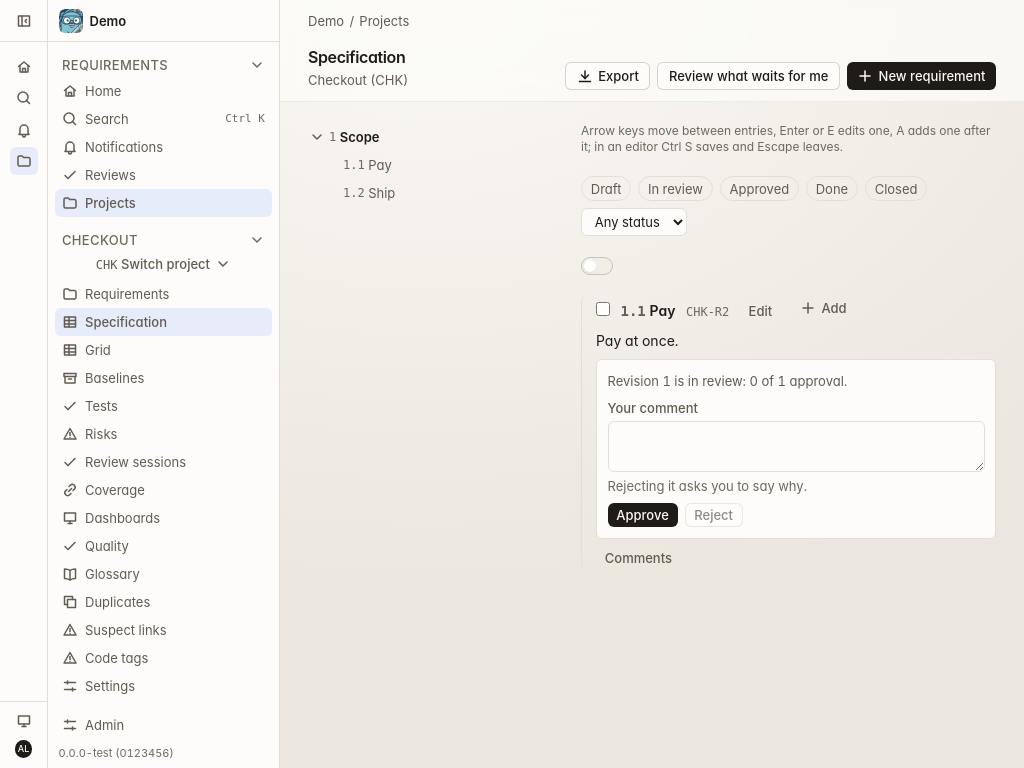
Test case: reviews in the document › says a review a newer revision superseded takes no decision
The width and height of the screenshot is (1024, 768).
Check: the heading "1.1 Pay" is shown, box [620,300,676,322]
In the text box labelled "Your comment": (796, 447) [608,421,984,472], type "Not like this."
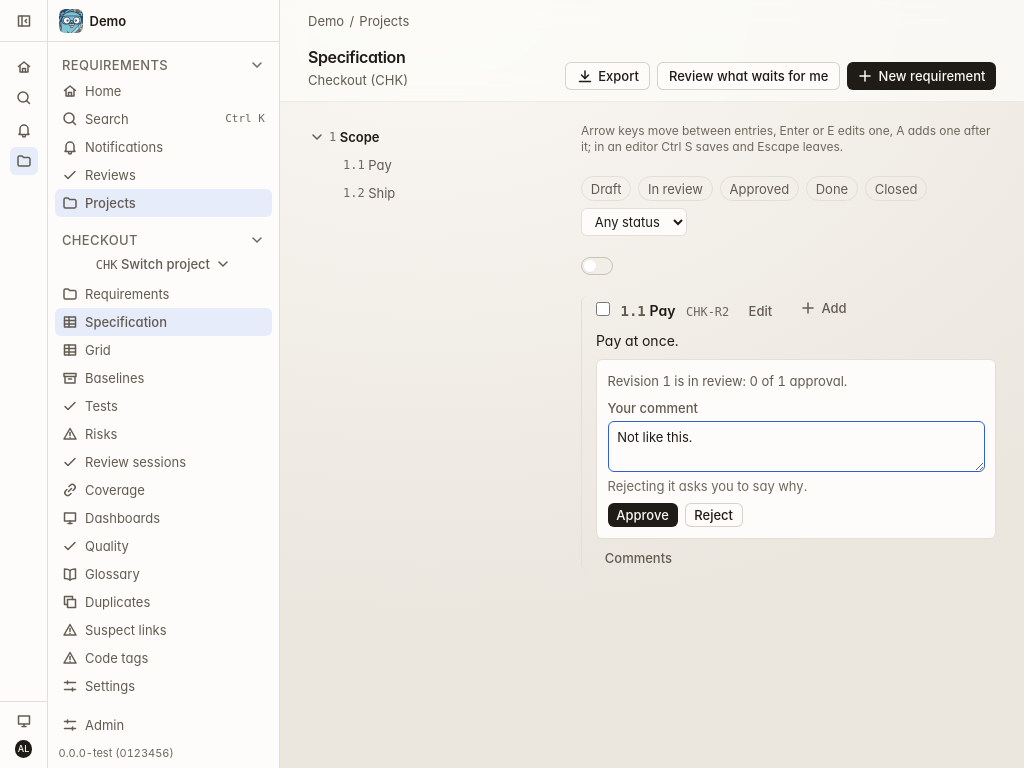
Click the button "Reject": (714, 515) [684,503,743,527]
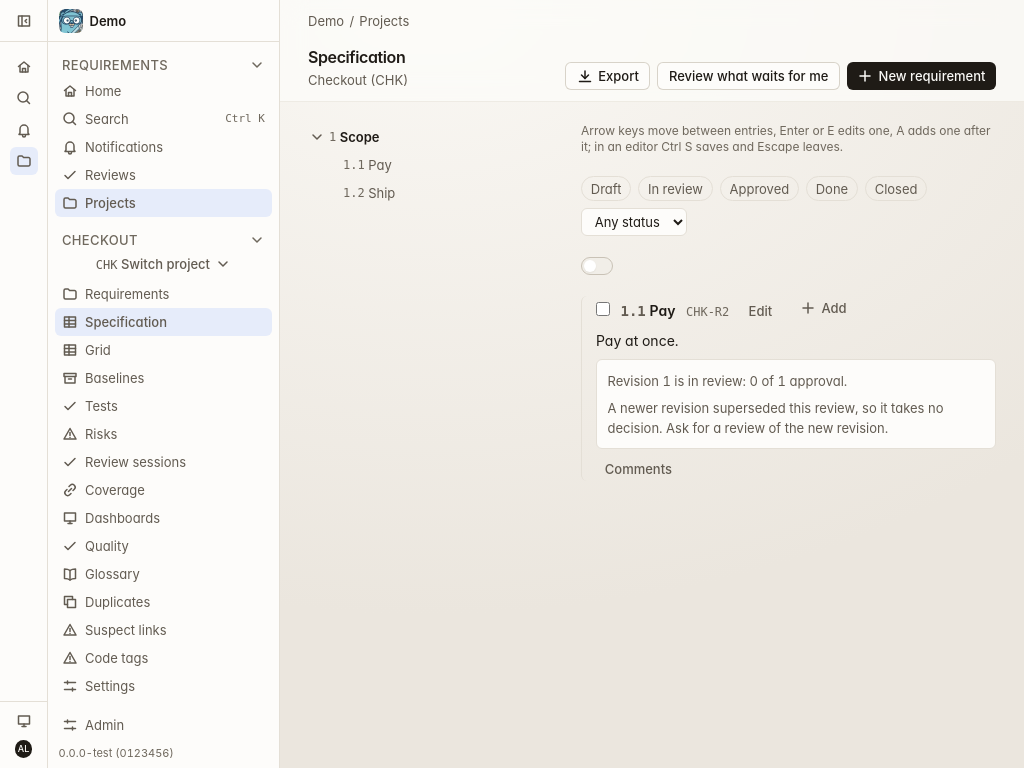
Check: the text "A newer revision superseded this review" is shown, box [608,400,944,436]
